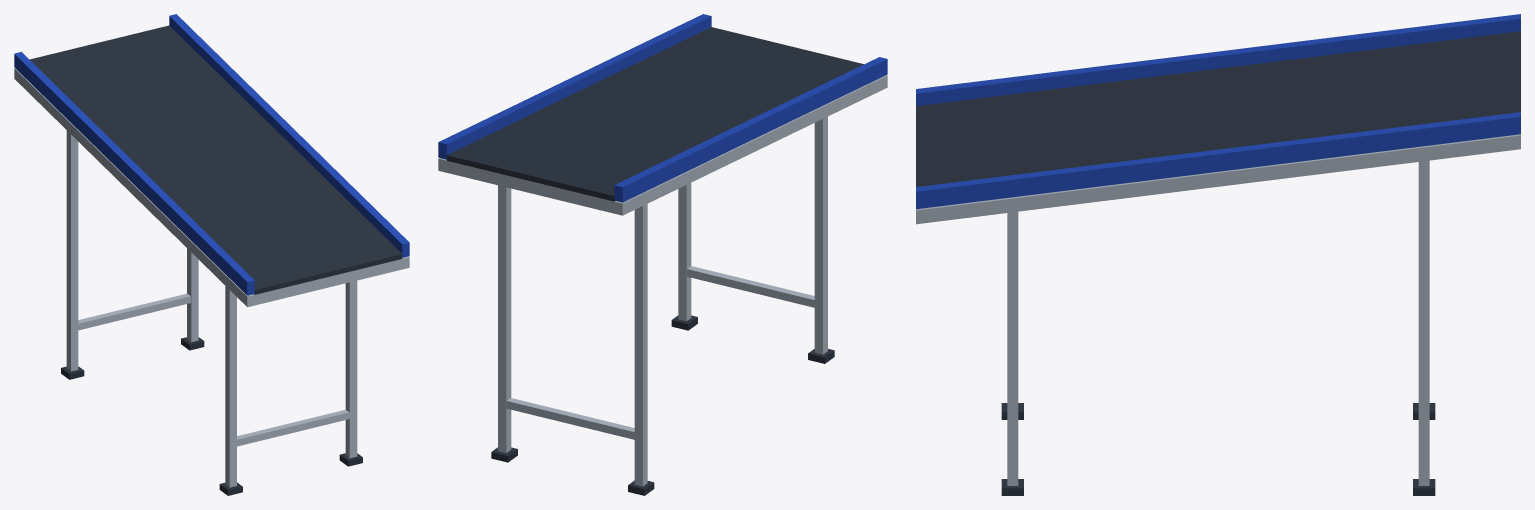
The model's file is SM_MPR_CADFeedRise150.fbx.
The picture shows the model from 3 angles, left to right: view 1: azimuth 30°, elevation 25°; view 2: azimuth 150°, elevation 25°; view 3: azimuth 270°, elevation 25°; orthographic projection. The views are drawn at different scales.
Parts seen in each view (by area): view 1: SM_MPR_CADFeedRise150; view 2: SM_MPR_CADFeedRise150; view 3: SM_MPR_CADFeedRise150.
Part boxes in pixels (box(x1,y1,x2,y2)): SM_MPR_CADFeedRise150: box(14, 14, 409, 495); SM_MPR_CADFeedRise150: box(438, 14, 887, 495); SM_MPR_CADFeedRise150: box(916, 14, 1520, 495).
Size of the model in its own units: 88 by 219 by 155.
